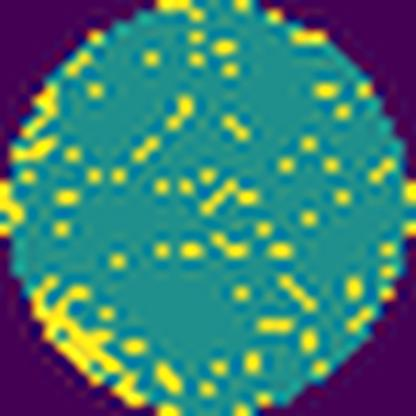Edge-Loc: (27, 270, 153, 416)
